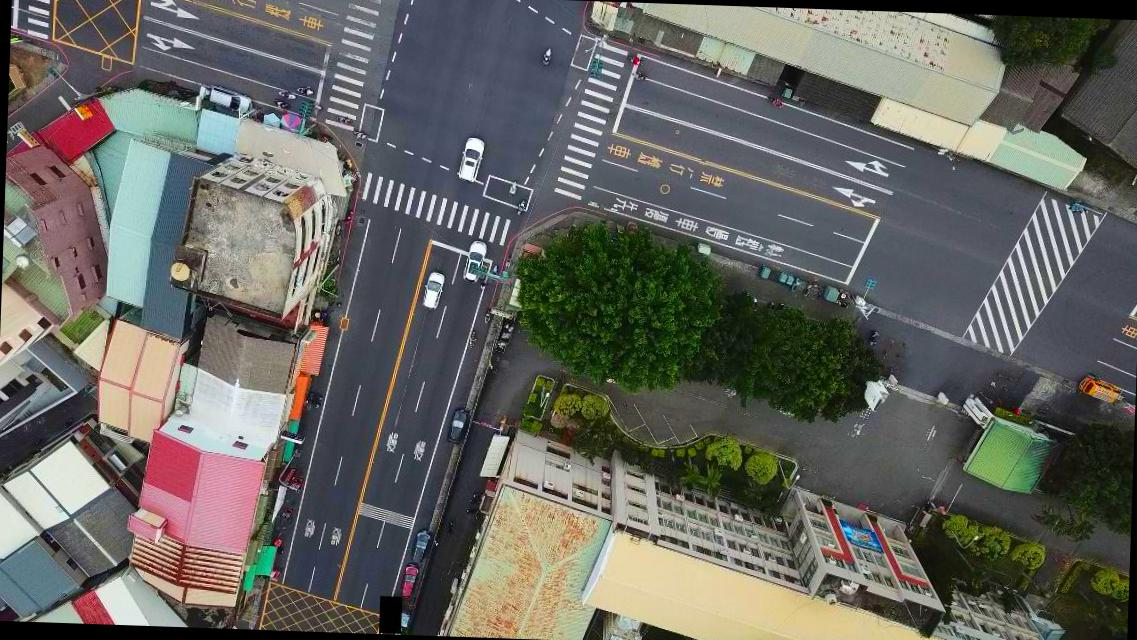vehicle: (209, 83, 254, 115), (458, 135, 486, 183), (1078, 374, 1122, 404), (461, 238, 487, 283), (420, 270, 445, 311), (446, 406, 468, 446), (410, 530, 430, 564), (400, 563, 419, 598)
